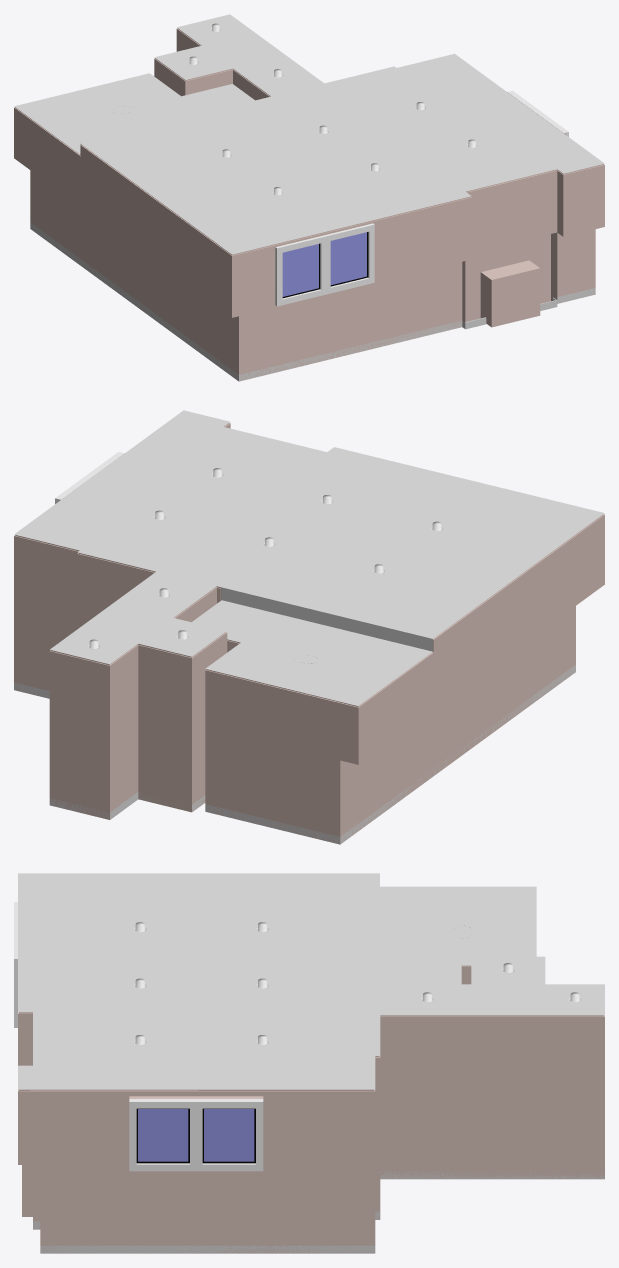
File: basementLightStrip.fbx
3 renders of one model, top to bottom at view 1: azimuth 30°, elevation 25°; view 2: azimuth 150°, elevation 25°; view 3: azimuth 270°, elevation 25°, orthographic. The views are drawn at different scales.
Visible parts, largest first — view 1: Ceiling, Wall.003, Wall.004, Fireplace, Window.001, Baseboard, Wall.000, LightStrip; view 2: Ceiling, Wall.004, Wall.000, Wall.005, Wall.001, Baseboard, LightStrip; view 3: Ceiling, Wall.002, Wall.000, Window, Baseboard, Fireplace, LightStrip, Wall.001.
Part boxes in pixels (bbox=[...]): Ceiling: bbox=[14, 14, 604, 254]; Wall.003: bbox=[232, 165, 604, 380]; Wall.004: bbox=[14, 108, 238, 380]; Fireplace: bbox=[462, 170, 563, 327]; Window.001: bbox=[275, 223, 374, 306]; Baseboard: bbox=[30, 222, 595, 381]; Wall.000: bbox=[154, 29, 269, 100]; LightStrip: bbox=[14, 28, 604, 255]; Ceiling: bbox=[14, 410, 604, 705]; Wall.004: bbox=[340, 515, 604, 844]; Wall.000: bbox=[49, 588, 227, 819]; Wall.005: bbox=[205, 641, 358, 843]; Wall.001: bbox=[14, 536, 154, 697]; Baseboard: bbox=[14, 665, 575, 844]; LightStrip: bbox=[14, 423, 604, 707]; Ceiling: bbox=[18, 873, 604, 1089]; Wall.002: bbox=[18, 1091, 375, 1253]; Wall.000: bbox=[380, 1017, 604, 1179]; Window: bbox=[129, 1099, 263, 1171]; Baseboard: bbox=[33, 1171, 604, 1253]; Fireplace: bbox=[18, 1014, 40, 1229]; LightStrip: bbox=[18, 965, 604, 1091]; Wall.001: bbox=[375, 1057, 380, 1219].
Size of the model in its own units: 711 by 252 by 797.
